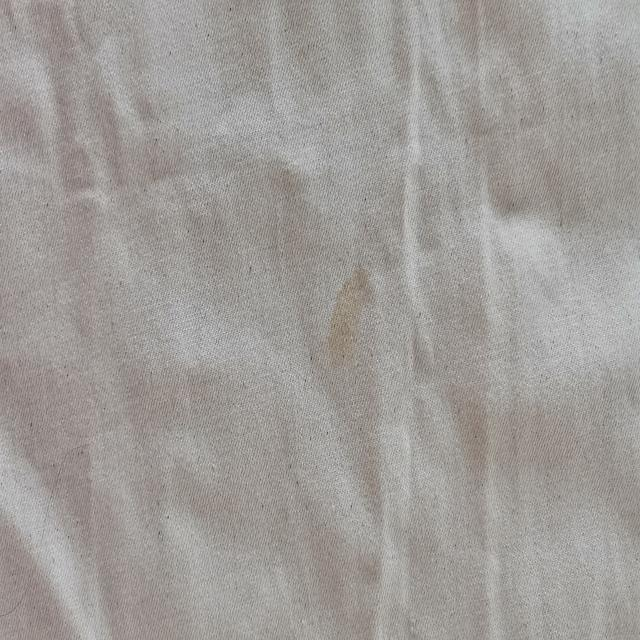taaaches: (325, 250, 383, 388)
